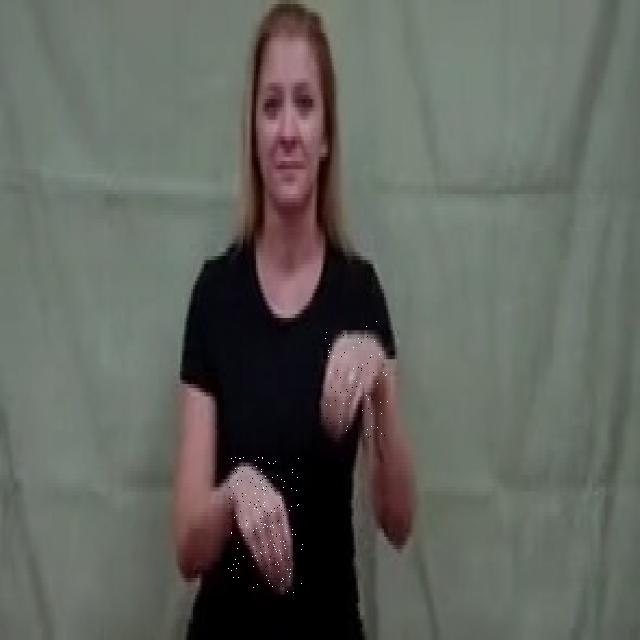ingredients: (228, 456, 304, 594), (318, 318, 388, 438)
